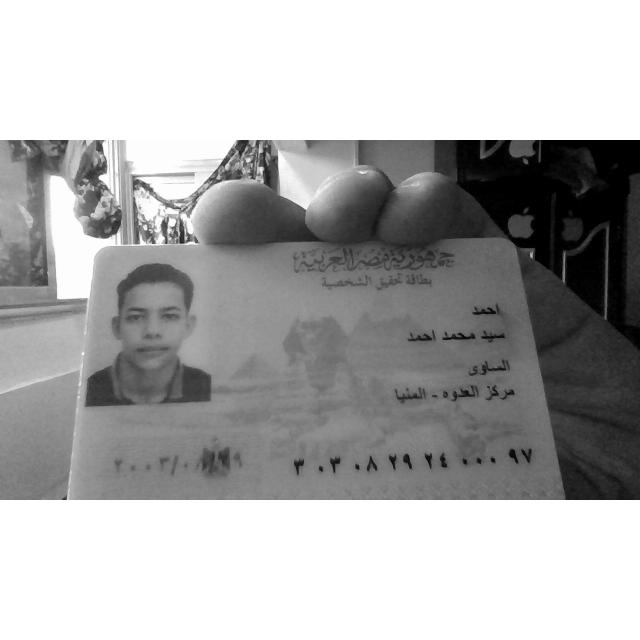id_card: (68, 238, 565, 500)
